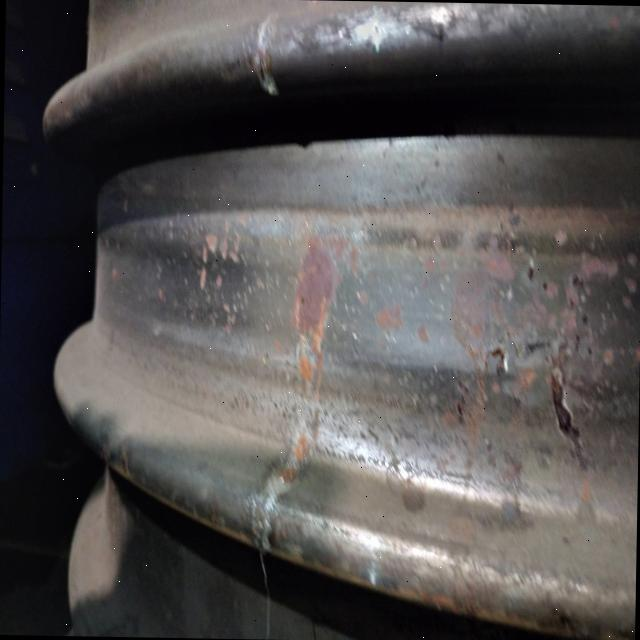Out_Of_Roundness: (244, 422, 312, 568)
Peeling: (528, 330, 594, 462)
